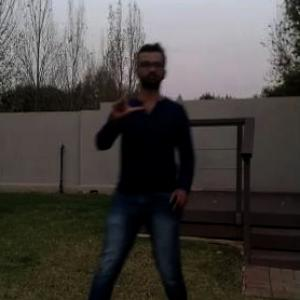land_hand: (109, 80, 145, 120)
